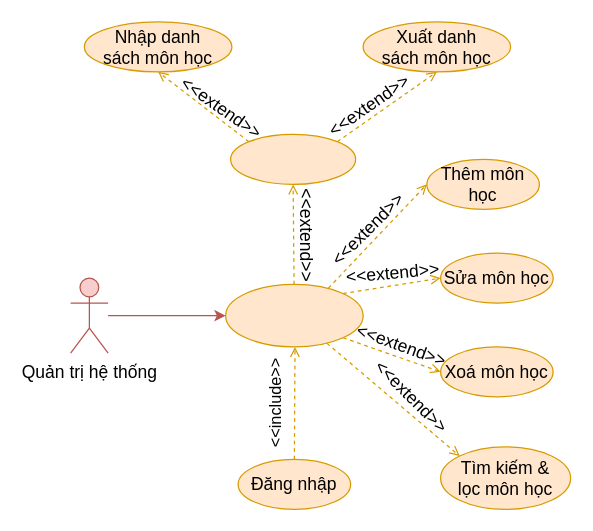
This 593x531 diagram has some shape labels left out. The shapes that lost their labels are listed below. From the top down, each one's box as (x1, y1, x2, y2) in pixels, then its label:
(229, 133, 356, 184): Nhập/Xuất
(224, 283, 363, 347): Quản lý môn học
